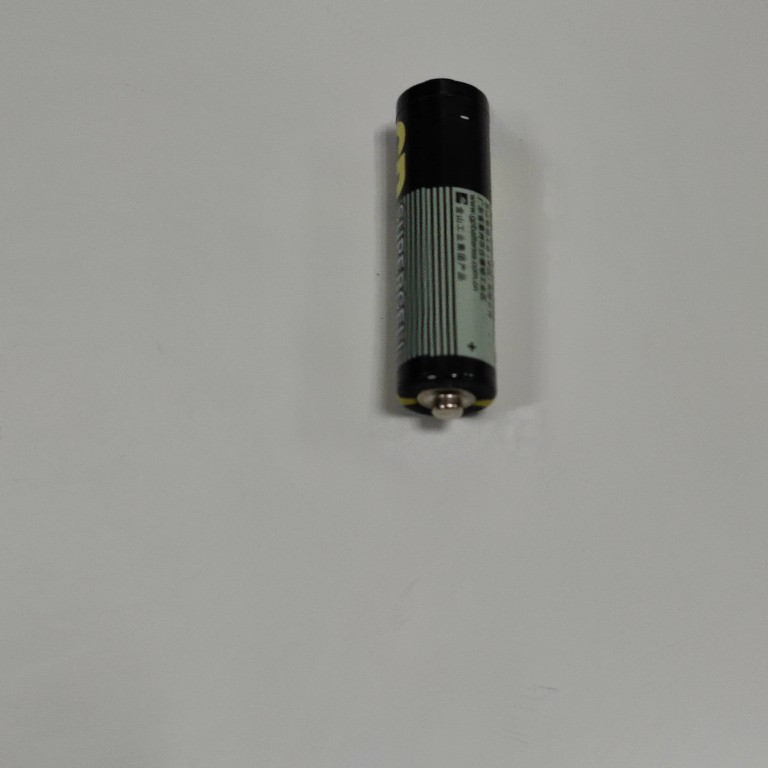charge: (392, 75, 501, 426)
